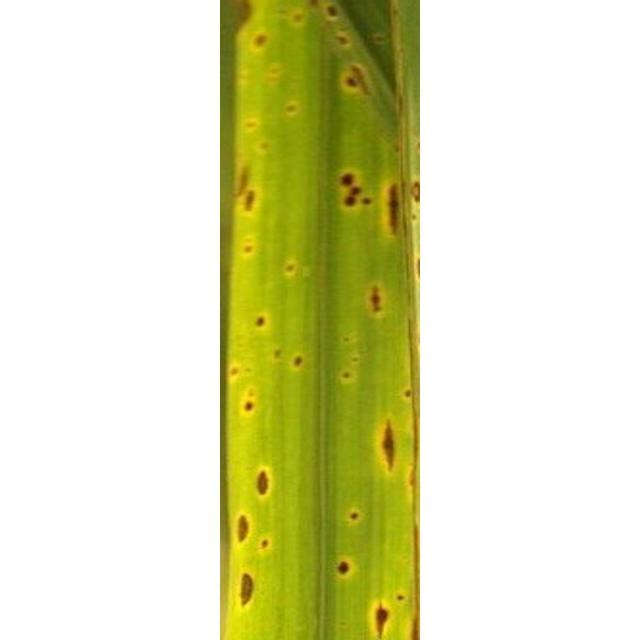Brown spot: (220, 0, 420, 640)
